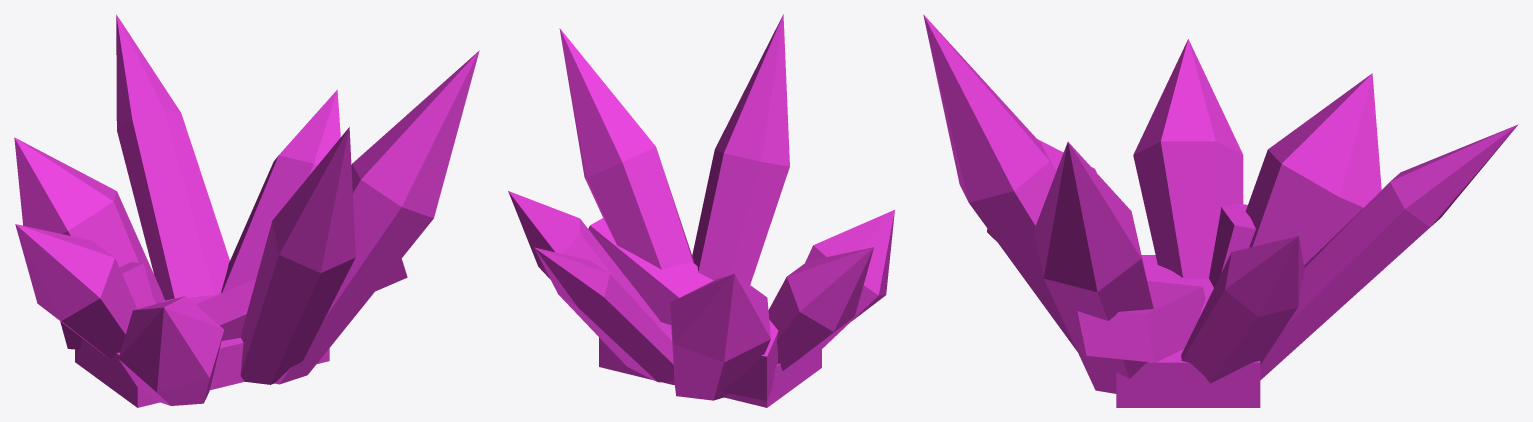
File: Crystal_Mesh_NoCore.fbx
The picture shows the model from 3 angles, left to right: view 1: azimuth 30°, elevation 25°; view 2: azimuth 150°, elevation 25°; view 3: azimuth 270°, elevation 25°; orthographic projection. The views are drawn at different scales.
Parts seen in each view (by area): view 1: Crystal Chunk 2; view 2: Crystal Chunk 2; view 3: Crystal Chunk 2.
Boxes of the visible parts, <box> form: Crystal Chunk 2: <box>14,14,479,407</box>; Crystal Chunk 2: <box>508,14,894,407</box>; Crystal Chunk 2: <box>923,14,1518,407</box>.
Size of the model in its own units: 30.98 by 42.88 by 46.71.
